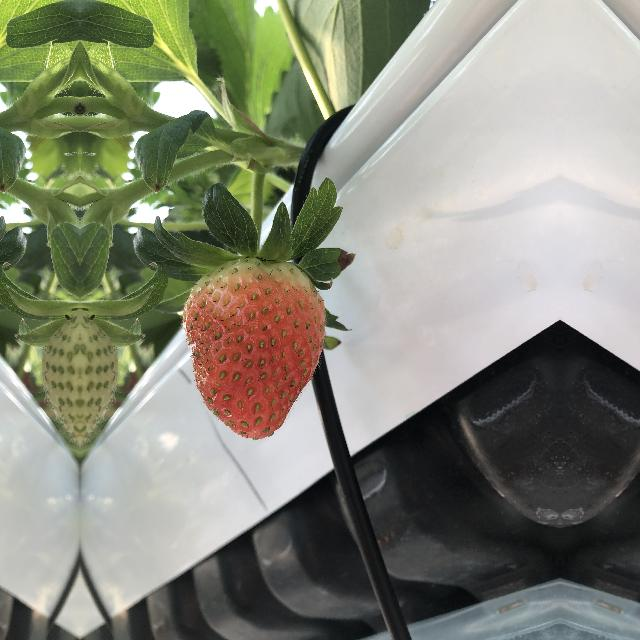Health_100: (157, 252, 335, 450)
